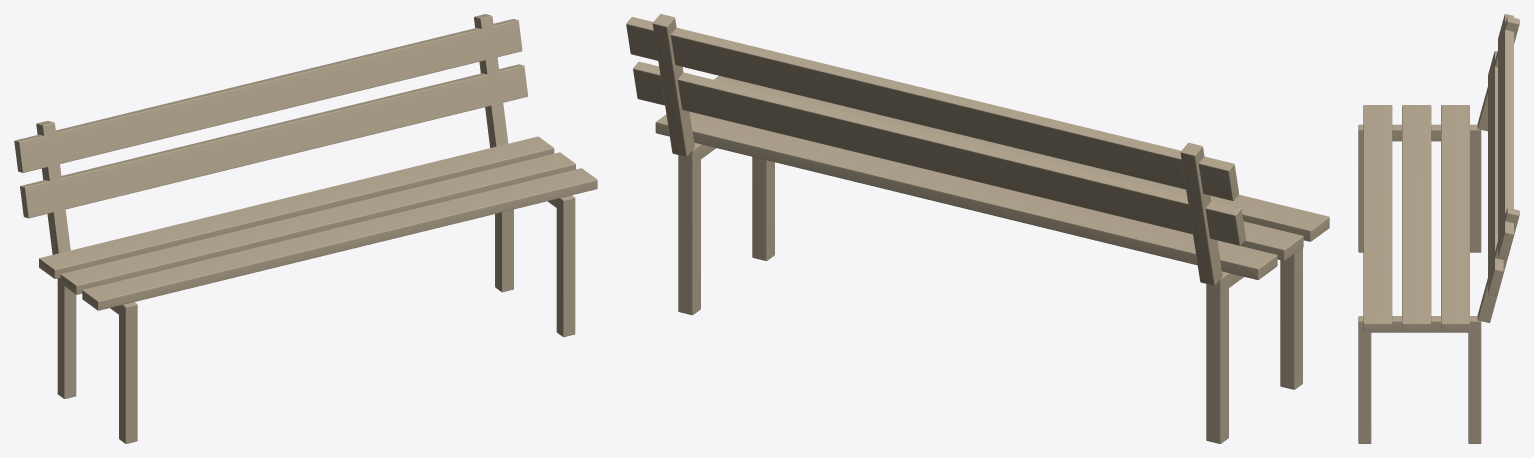
File: bench.glb
The picture shows the model from 3 angles, left to right: view 1: azimuth 30°, elevation 25°; view 2: azimuth 150°, elevation 25°; view 3: azimuth 270°, elevation 25°; orthographic projection. The views are drawn at different scales.
Visible parts, largest first — view 1: bench; view 2: bench; view 3: bench.
Part boxes in pixels (x1,y1,x2,y2): bench: (14, 14, 597, 443); bench: (626, 14, 1329, 443); bench: (1358, 14, 1519, 443).
Bounding box in the file's own units: 1.6 × 0.7895 × 0.4979.
